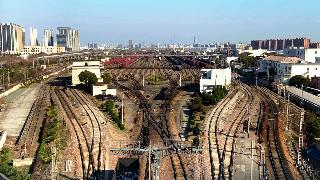train: (164, 80, 178, 99)
